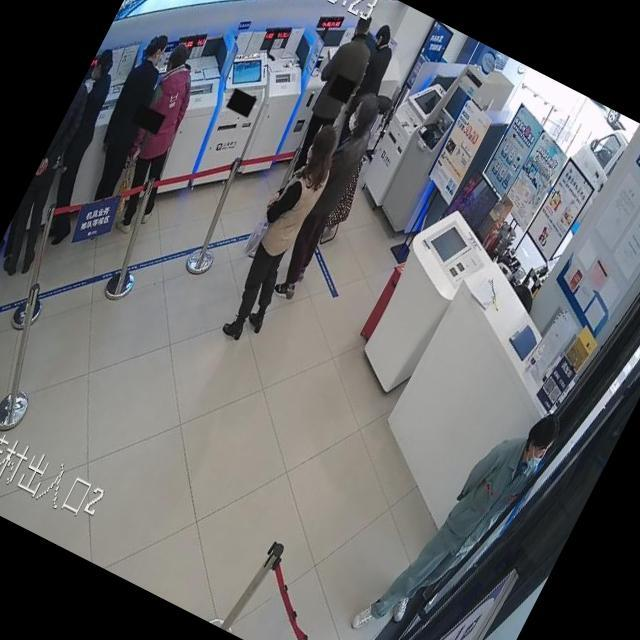person: (344, 375, 565, 640), (206, 118, 356, 348), (10, 47, 152, 253), (260, 91, 396, 306), (0, 57, 129, 282), (87, 39, 227, 240), (69, 29, 190, 211), (272, 8, 388, 185), (336, 22, 408, 126), (338, 22, 408, 122)
